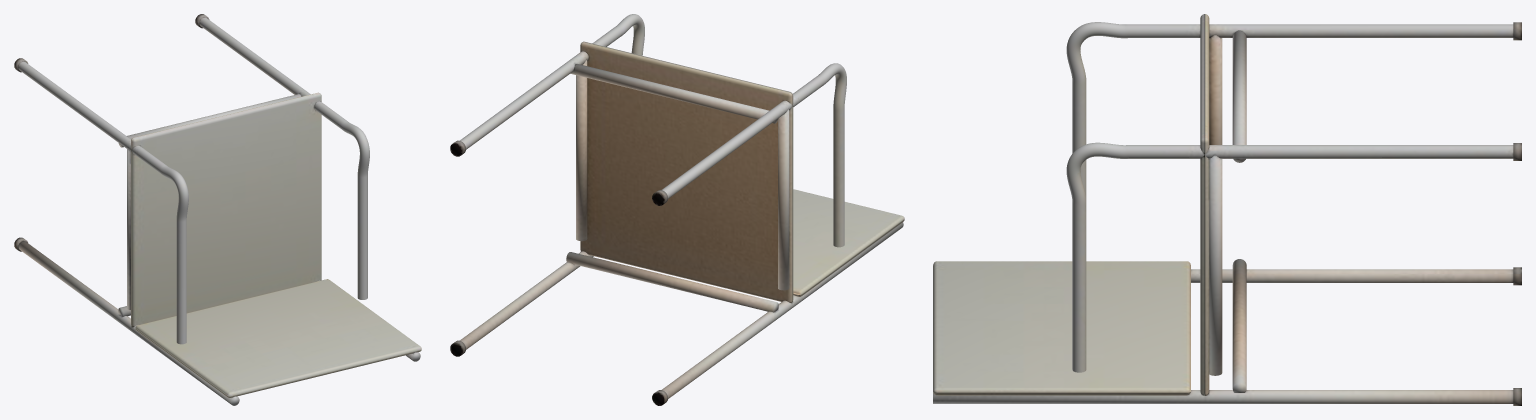
The model's file is C2_chair_final_6.obj.
3 views of the same model, side by side, from view 1: azimuth 30°, elevation 25°; view 2: azimuth 150°, elevation 25°; view 3: azimuth 270°, elevation 25° (orthographic). The views are drawn at different scales.
Parts seen in each view (by area): view 1: C2_chair_final_6.001; view 2: C2_chair_final_6.001; view 3: C2_chair_final_6.001.
Boxes of the visible parts, <box> form: C2_chair_final_6.001: <box>14,14,421,405</box>; C2_chair_final_6.001: <box>450,14,904,405</box>; C2_chair_final_6.001: <box>933,14,1521,405</box>.
Size of the model in its own units: 0.44 by 0.426 by 0.845.
1 material, 1 textured.
